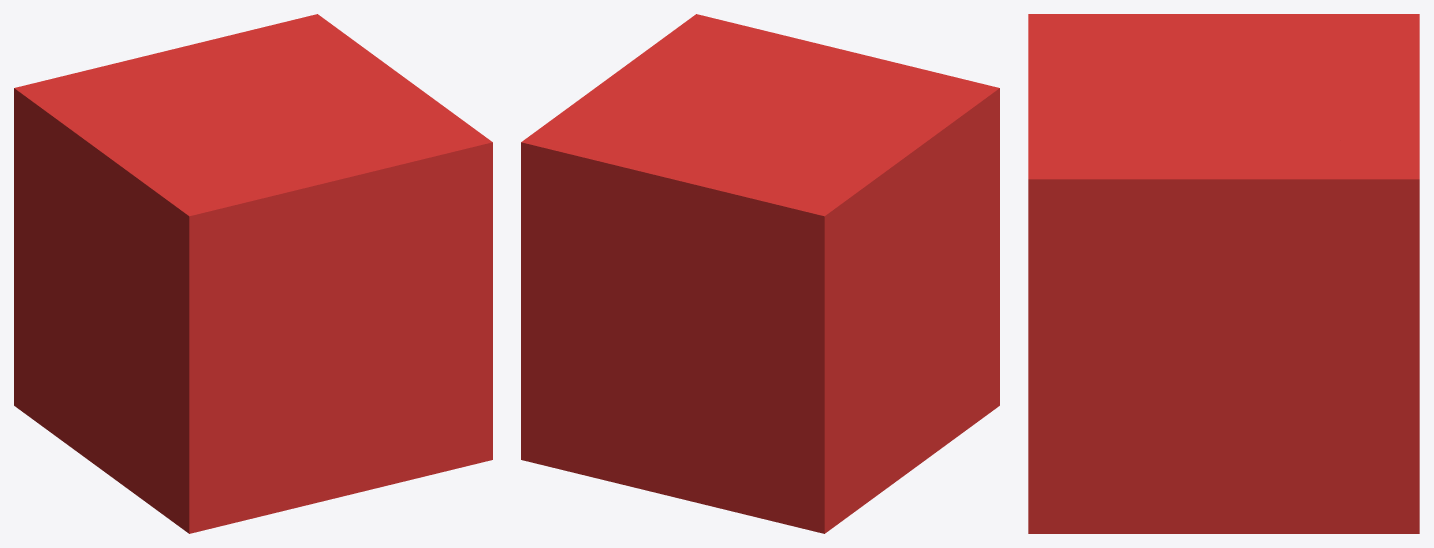
The model's file is split_box.fbx.
The picture shows the model from 3 angles, left to right: view 1: azimuth 30°, elevation 25°; view 2: azimuth 150°, elevation 25°; view 3: azimuth 270°, elevation 25°; orthographic projection. The views are drawn at different scales.
Parts seen in each view (by area): view 1: Cube.002, Cube.004, Cube.001, Cube.003, Cube.006, Cube.005, Cube.008, Cube.007; view 2: Cube.006, Cube.005, Cube.004, Cube.007, Cube.008, Cube.002, Cube.009, Cube.003, Cube.001; view 3: Cube.008, Cube.007, Cube.003, Cube.005, Cube.004, Cube.002, Cube.001, Cube.009.
Part boxes in pixels (x1,y1,x2,y2): Cube.002: (124,140,449,355); Cube.004: (62,95,397,427); Cube.001: (165,252,492,533); Cube.003: (180,87,492,414); Cube.006: (14,205,204,533); Cube.005: (14,32,334,315); Cube.008: (288,339,492,497); Cube.007: (245,14,492,342); Cube.006: (638,300,999,533); Cube.005: (565,95,913,352); Cube.004: (680,49,999,389); Cube.007: (521,69,722,324); Cube.008: (521,276,714,434); Cube.002: (740,31,999,227); Cube.009: (521,360,770,520); Cube.003: (621,14,999,292); Cube.001: (976,286,999,331); Cube.008: (1028,257,1419,533); Cube.007: (1028,139,1419,399); Cube.003: (1028,140,1222,341); Cube.005: (1223,14,1419,140); Cube.004: (1085,14,1310,141); Cube.002: (1028,14,1172,141); Cube.001: (1151,425,1306,533); Cube.009: (1307,422,1419,533).
Bounding box in the file's own units: 200 × 200 × 200.
